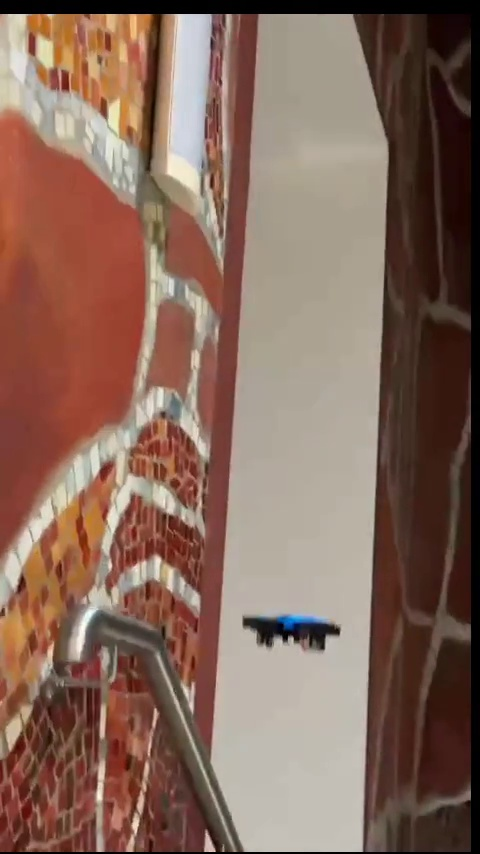drone: (244, 610, 343, 652)
